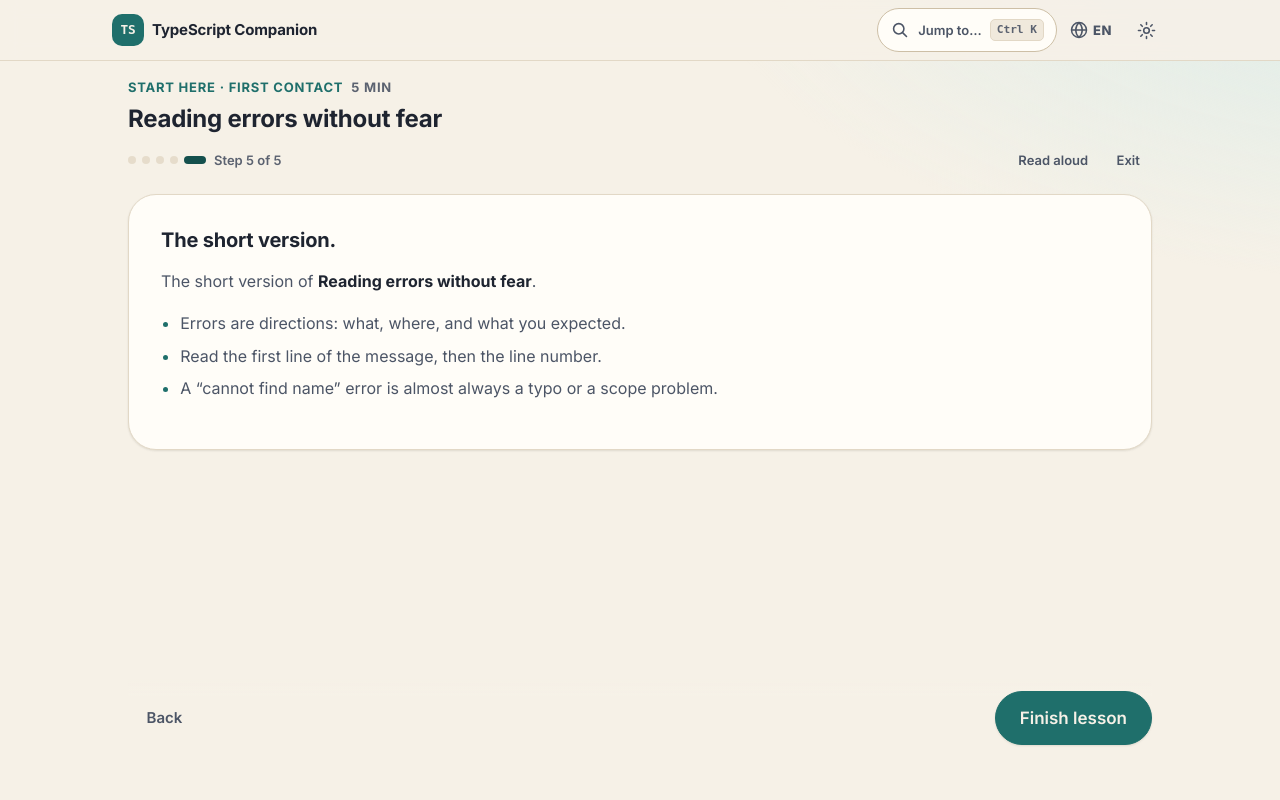
the end of a lesson › keeps the recap and the way on in Quiet mode, without points or confetti
Click the button "Finish lesson": (1073, 718) [995, 691, 1152, 745]
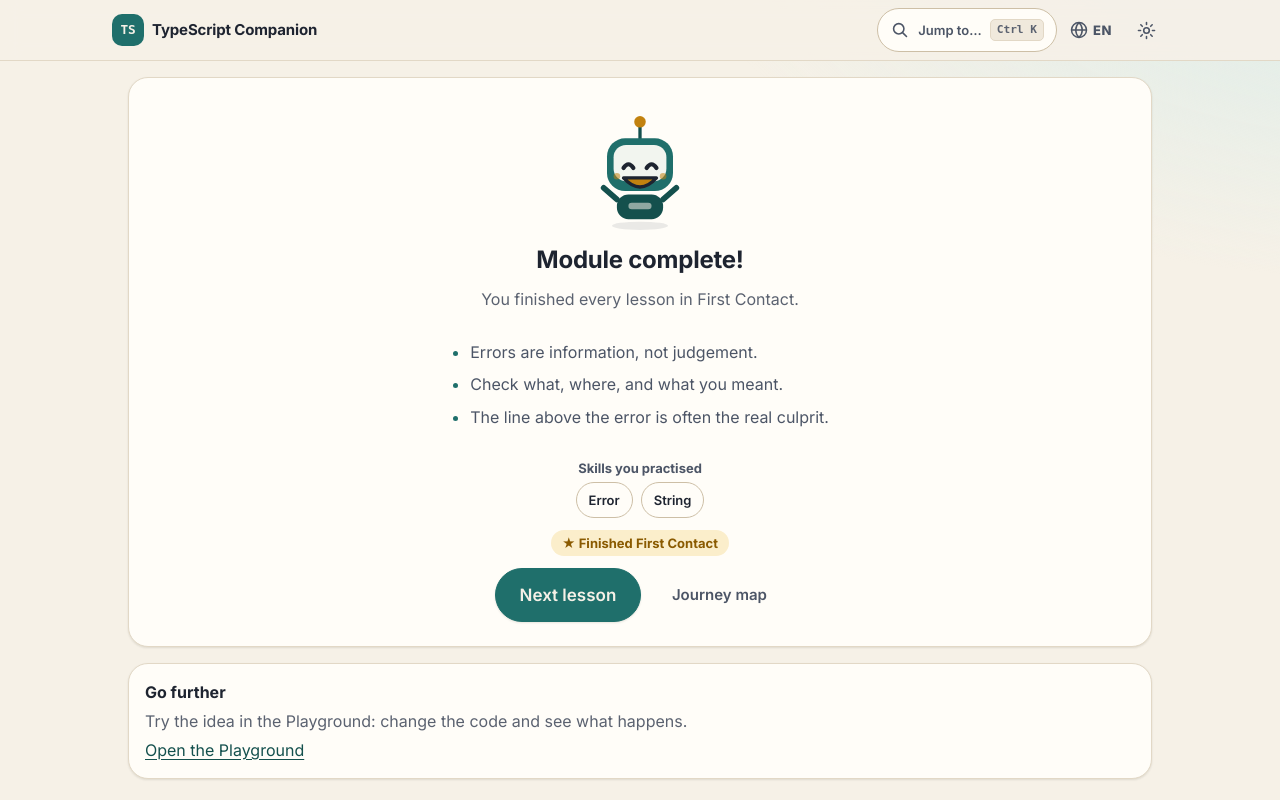
Expected: the text "xp" is gone
Expected: the link "Next lesson" is shown, [494, 568, 641, 622]
